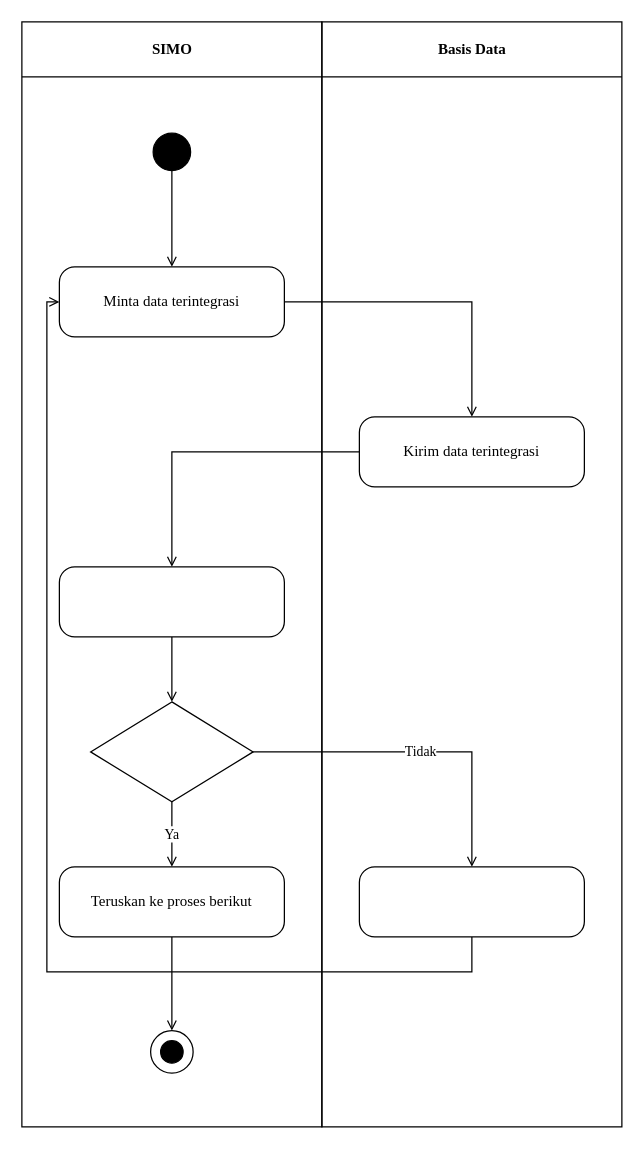
The diagram is 644 pixels wide and 1149 high, and some of its shapes have lost their labels. The centre of each missing label's shape, as x and y in pixels:
Catat error, ulangi: pixel 471 901
Lengkap?: pixel 171 751
Terima dan tampung data: pixel 171 601
